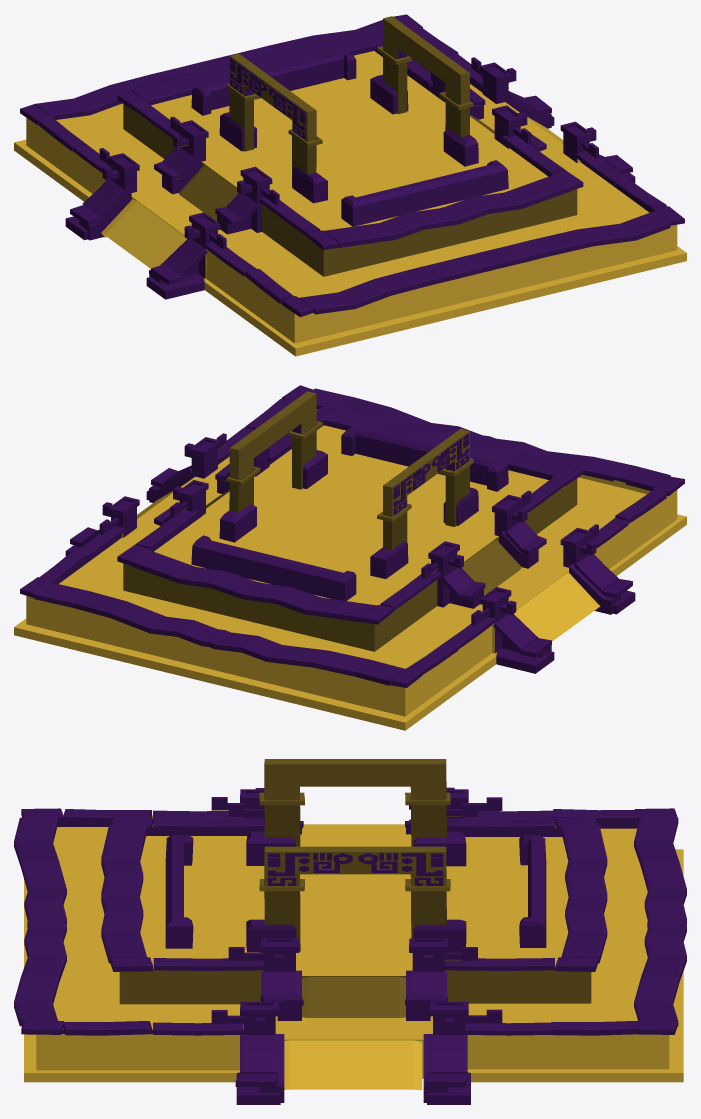
File: Templo.FBX
3 renders of one model, top to bottom at view 1: azimuth 30°, elevation 25°; view 2: azimuth 150°, elevation 25°; view 3: azimuth 270°, elevation 25°, orthographic. The views are drawn at different scales.
Parts seen in each view (by area): view 1: Box130; view 2: Box130; view 3: Box130.
Boxes of the visible parts, left/top/right/bottom form: Box130: left=14, top=14, right=686, bottom=356; Box130: left=14, top=385, right=686, bottom=730; Box130: left=14, top=759, right=686, bottom=1104.
Bounding box in the file's own units: 9114 × 2638 × 9652.
